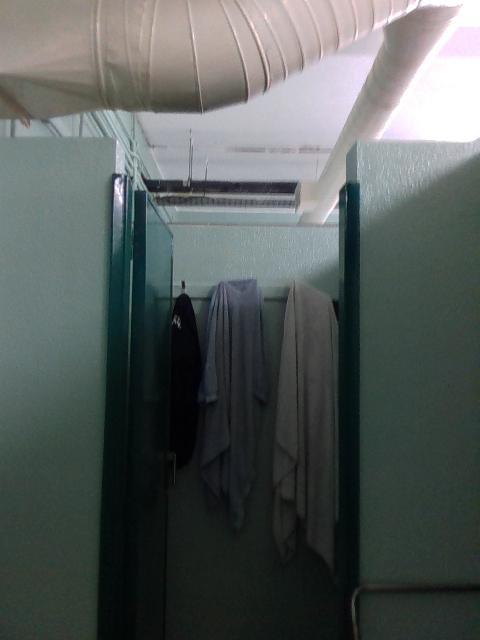open_door: (95, 139, 360, 639)
